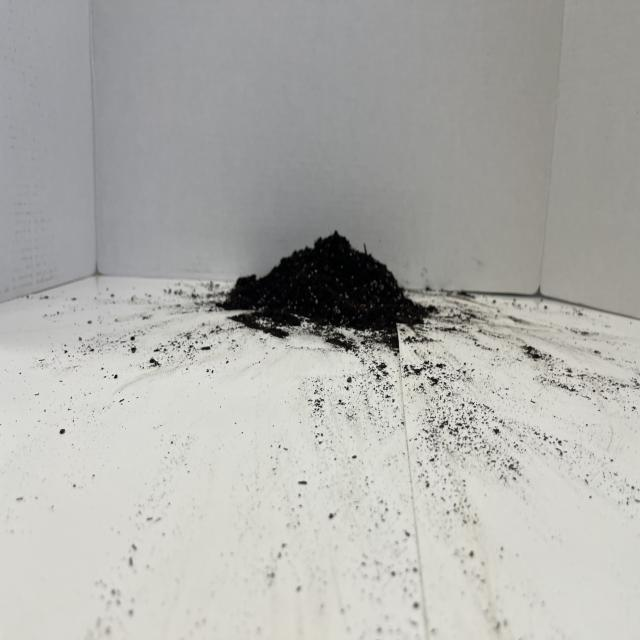soil: (218, 227, 435, 337)
